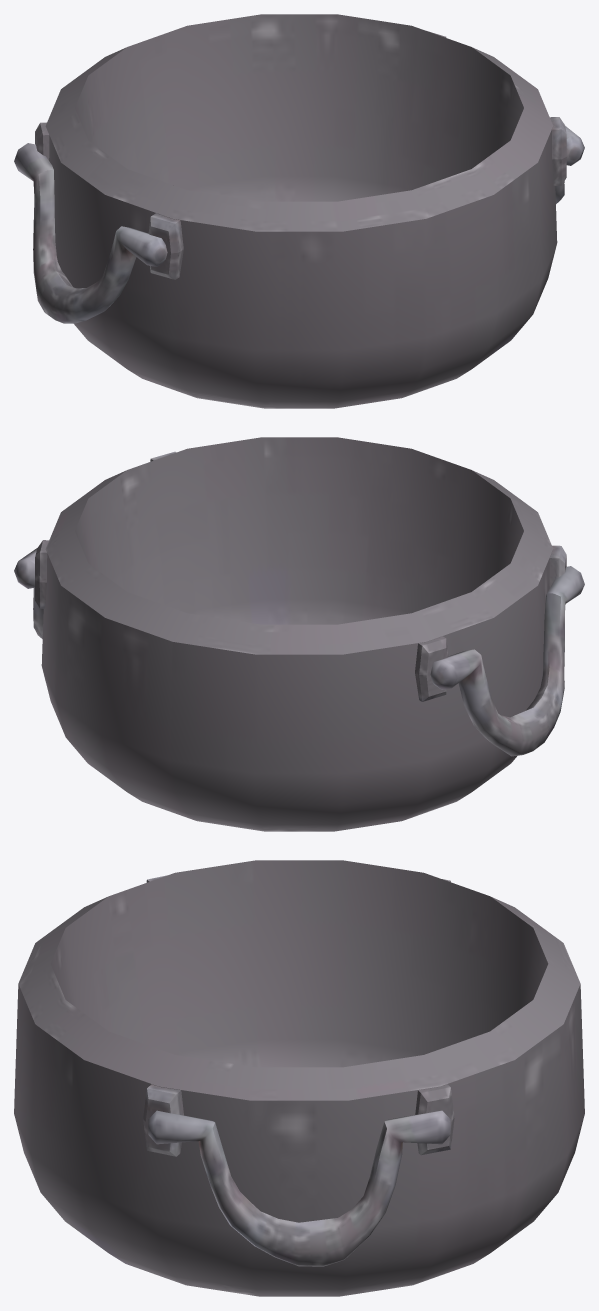
Rendered from quaternius-fantasy-props-pot-1.glb.
The picture shows the model from 3 angles, top to bottom: view 1: azimuth 30°, elevation 25°; view 2: azimuth 150°, elevation 25°; view 3: azimuth 270°, elevation 25°; orthographic projection. The views are drawn at different scales.
Parts seen in each view (by area): view 1: Pot_1; view 2: Pot_1; view 3: Pot_1.
Boxes of the visible parts, <box> form: Pot_1: <box>14,14,584,408</box>; Pot_1: <box>14,437,584,831</box>; Pot_1: <box>14,860,584,1296</box>.
Bounding box in the file's own units: 0.55 × 0.2283 × 0.4956.
1 material, 1 textured.
